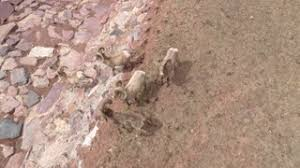sheep: (98, 98, 146, 138), (110, 70, 148, 103), (93, 46, 134, 72), (159, 49, 180, 85)
